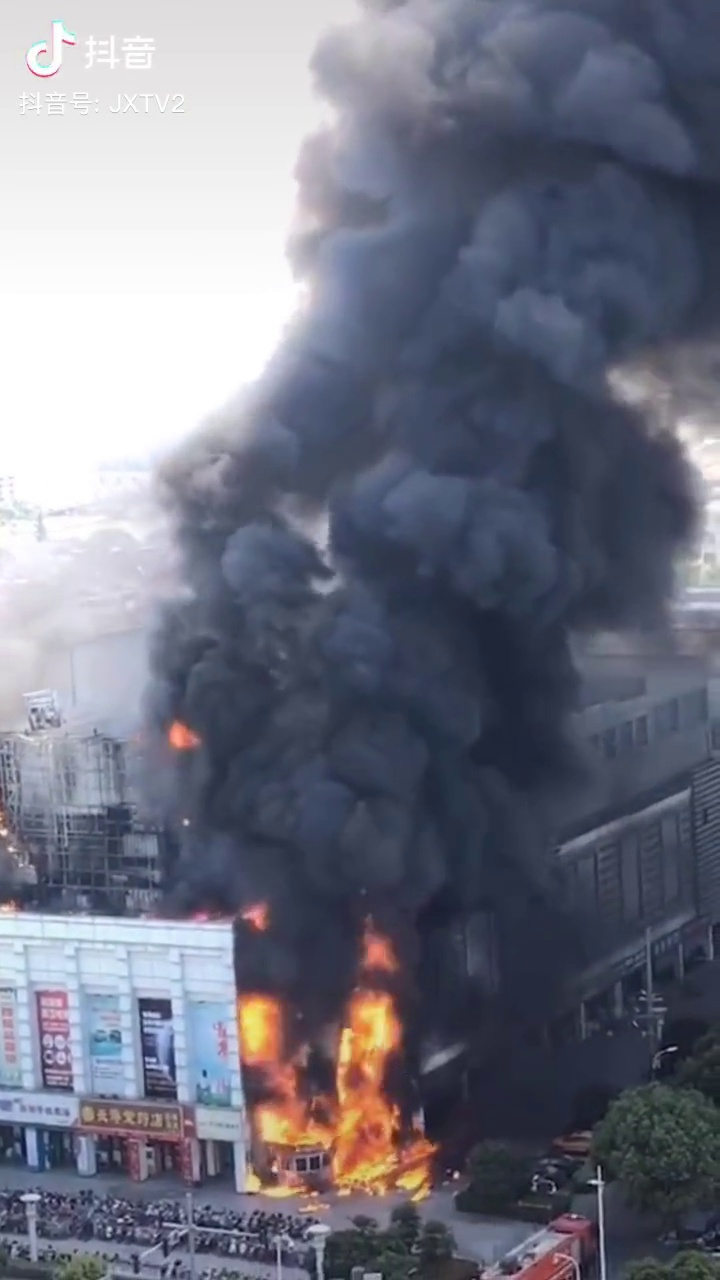fire: (313, 987, 437, 1208), (229, 990, 315, 1153)
yanwu: (155, 34, 659, 965)
